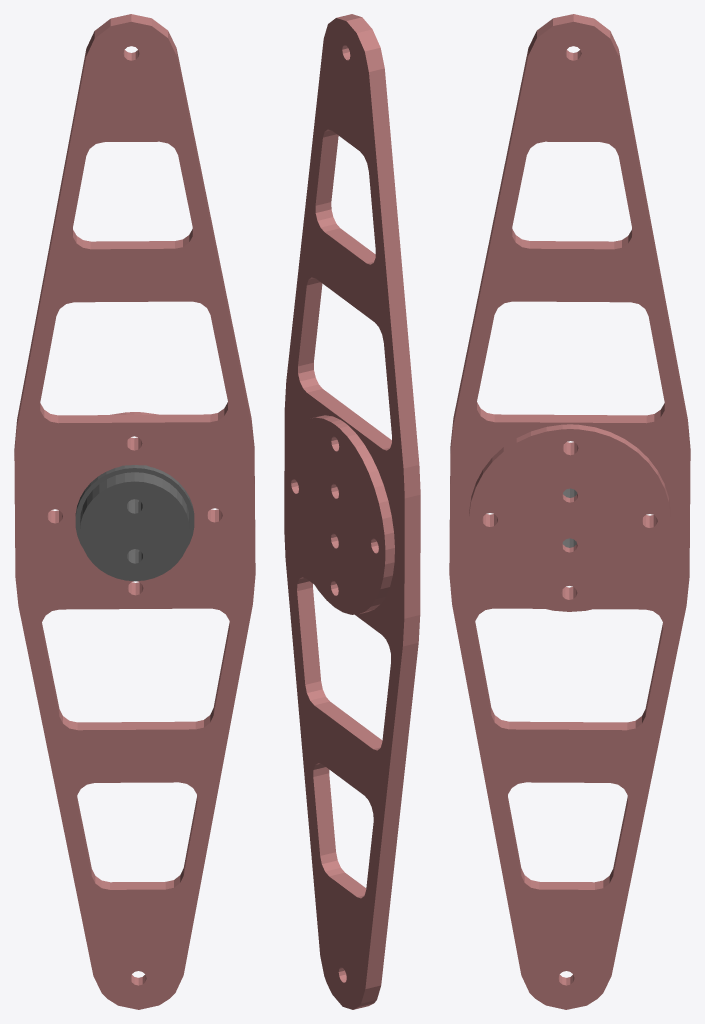
The model's file is diff-bar.glb.
The picture shows the model from 3 angles, left to right: view 1: azimuth 90°, elevation 25°; view 2: azimuth 210°, elevation 25°; view 3: azimuth 270°, elevation 25°; orthographic projection.
Parts seen in each view (by area): view 1: Diff Bar; view 2: Diff Bar; view 3: Diff Bar.
Part boxes in pixels (x1,y1,x2,y2): Diff Bar: (14, 14, 255, 1009); Diff Bar: (284, 14, 420, 1009); Diff Bar: (449, 14, 690, 1009).
Size of the model in its own units: 0.018 by 0.297 by 0.0657.
